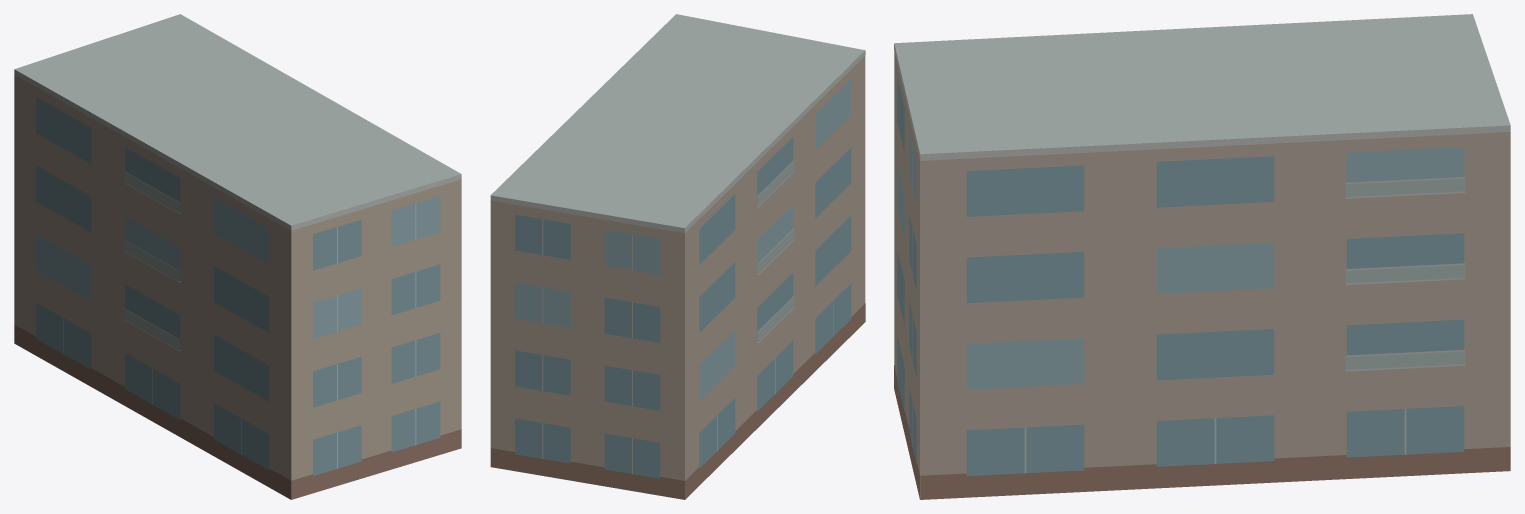
Rendered from survey-upis-32655336.glb.
3 views of the same model, side by side, from view 1: azimuth 30°, elevation 25°; view 2: azimuth 150°, elevation 25°; view 3: azimuth 270°, elevation 25° (orthographic). The views are drawn at different scales.
Visible parts, largest first — view 1: survey-upis-32655336.tmp; view 2: survey-upis-32655336.tmp; view 3: survey-upis-32655336.tmp.
Boxes of the visible parts, bbox=[...] form: survey-upis-32655336.tmp: bbox=[14, 14, 461, 499]; survey-upis-32655336.tmp: bbox=[490, 14, 865, 499]; survey-upis-32655336.tmp: bbox=[894, 14, 1510, 499].
Bounding box in the file's own units: 11.15 × 12.8 × 20.71.
